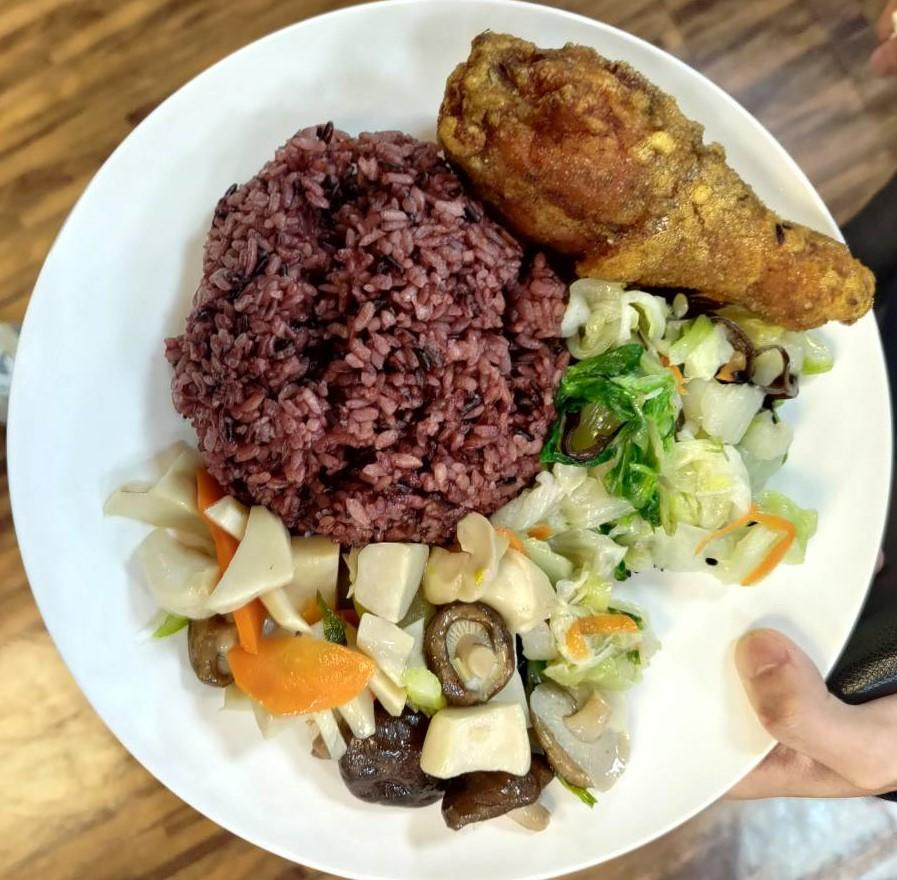big fried chicken leg: (4, 0, 896, 880)
braised fish: (172, 122, 565, 548)
braised fish fillet: (110, 512, 625, 826), (550, 282, 829, 581)
braised pork: (432, 28, 877, 324)
